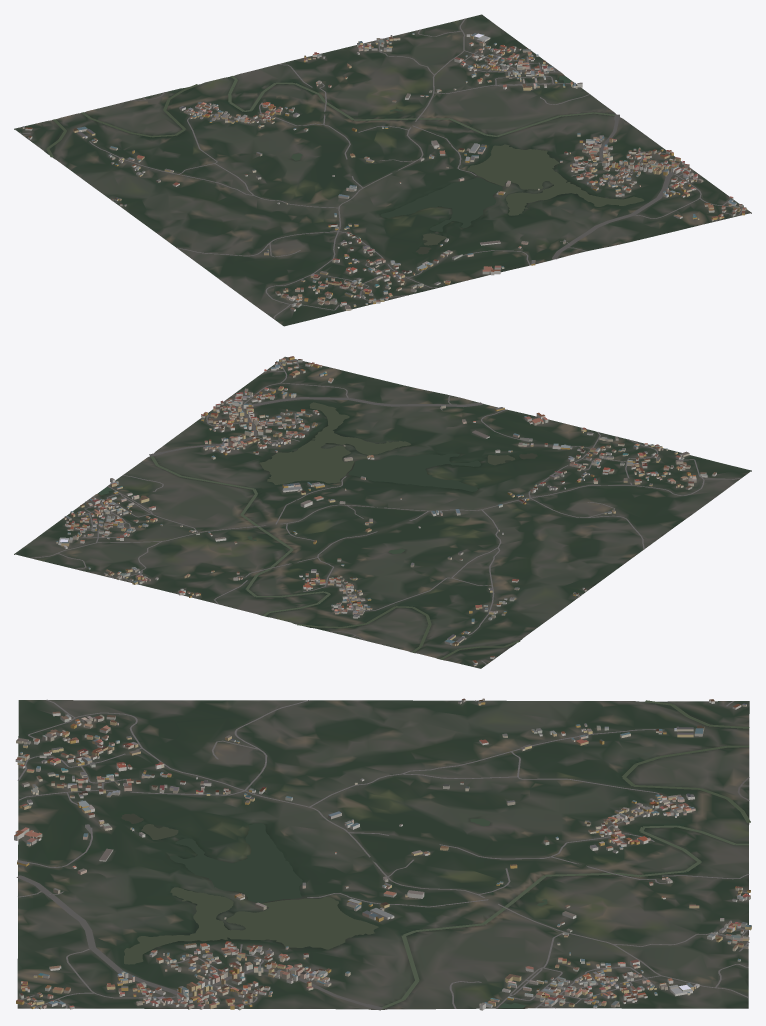
3 renders of one model, top to bottom at view 1: azimuth 30°, elevation 25°; view 2: azimuth 150°, elevation 25°; view 3: azimuth 270°, elevation 25°, orthographic. The views are drawn at different scales.
Parts seen in each view (by area): view 1: ground, buildings, water, roads; view 2: ground, buildings, water, roads; view 3: ground, buildings, water, roads.
Part boxes in pixels (left/top/right/bottom): ground: left=14, top=14, right=751, bottom=326; buildings: left=22, top=33, right=746, bottom=311; water: left=46, top=76, right=644, bottom=254; roads: left=20, top=18, right=742, bottom=318; ground: left=14, top=356, right=751, bottom=668; buildings: left=56, top=356, right=716, bottom=666; water: left=98, top=402, right=537, bottom=659; roads: left=30, top=360, right=741, bottom=664; ground: left=17, top=700, right=749, bottom=1009; buildings: left=14, top=698, right=751, bottom=1010; water: left=121, top=700, right=750, bottom=1009; roads: left=16, top=699, right=749, bottom=1010.
Bounding box in the file's own units: 1410 × 19.19 × 1415.
